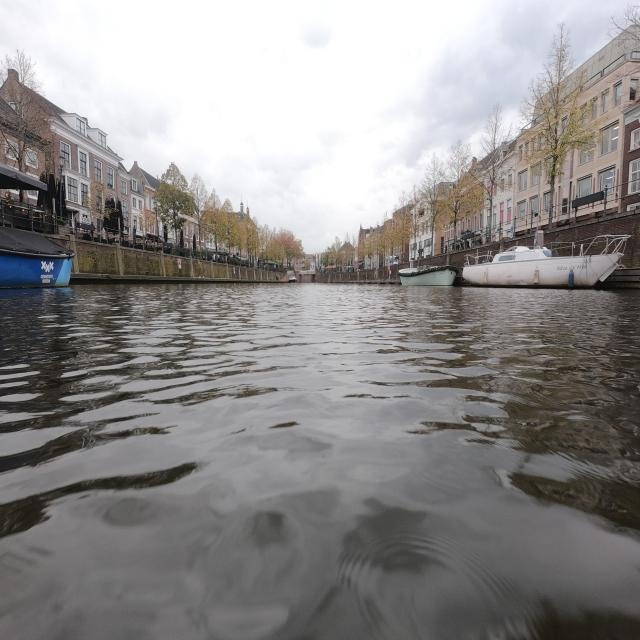boat: (462, 236, 628, 287), (2, 222, 78, 286), (398, 265, 459, 286)
dock: (70, 273, 278, 284)
sky: (6, 4, 632, 248)
wall: (322, 268, 382, 286)
water: (8, 290, 638, 634)
